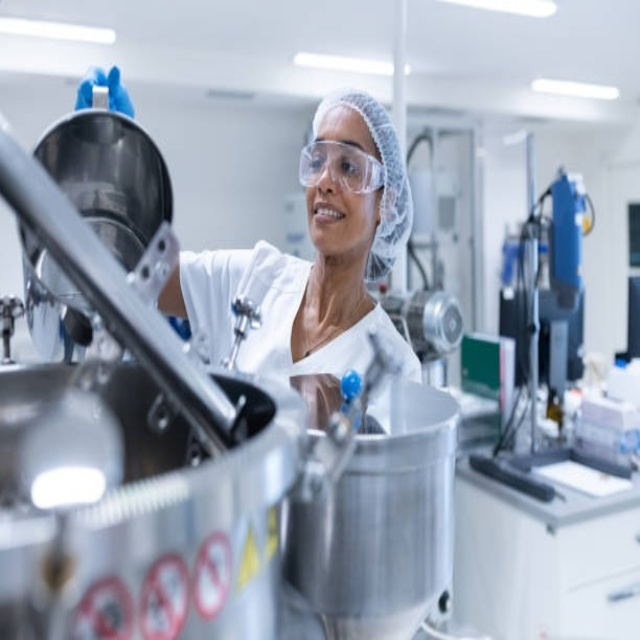Gafas: (298, 139, 387, 196)
Guantes: (72, 61, 135, 124)
Sin_mascara: (310, 193, 353, 245)
